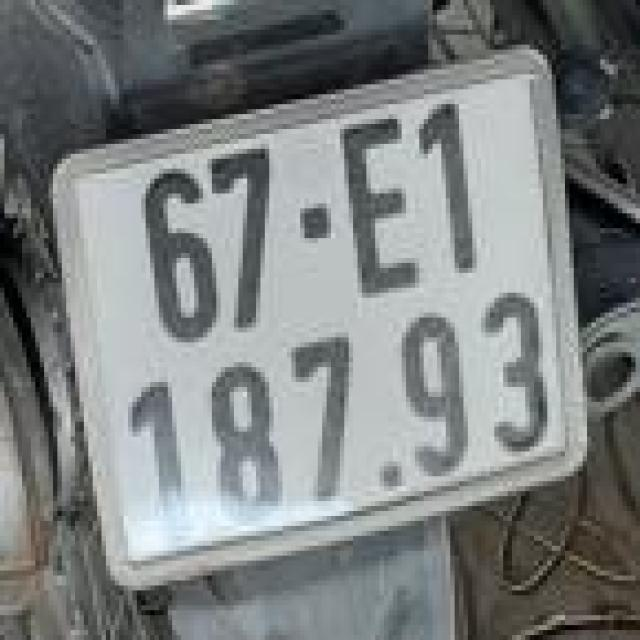1: (106, 370, 216, 566), (403, 97, 510, 294)
3: (472, 279, 566, 471)
6: (138, 159, 230, 367)
7: (201, 138, 299, 349), (276, 314, 371, 527)
8: (191, 341, 300, 555)
9: (382, 297, 496, 494)
E: (322, 112, 437, 318)
